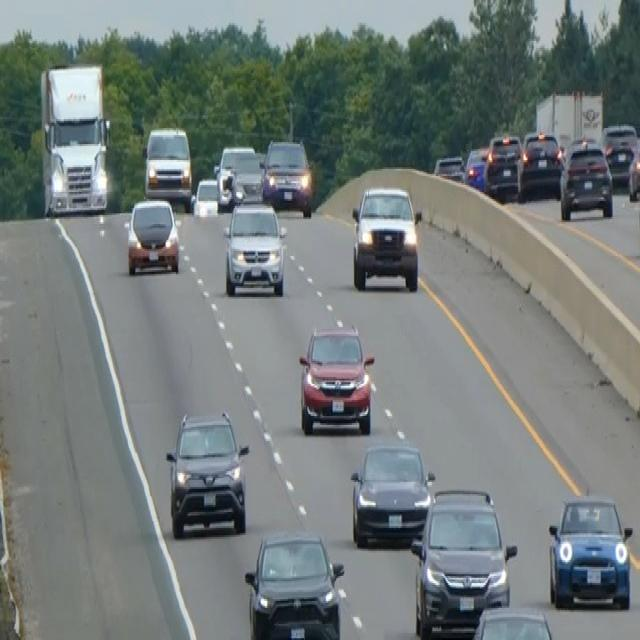car: (410, 486, 517, 636), (164, 407, 250, 539), (243, 528, 345, 638), (547, 492, 633, 610), (349, 441, 435, 547), (297, 322, 375, 436), (350, 183, 421, 292), (222, 197, 287, 297), (559, 137, 613, 220), (125, 196, 180, 276), (260, 135, 313, 217), (518, 130, 563, 199), (469, 603, 556, 638), (215, 142, 258, 206), (483, 131, 522, 201), (601, 121, 638, 185), (230, 162, 264, 206), (191, 176, 219, 217), (464, 144, 488, 190), (433, 153, 465, 183), (627, 137, 639, 201)
lorry: (38, 60, 112, 217)
minivan: (142, 123, 192, 208)
